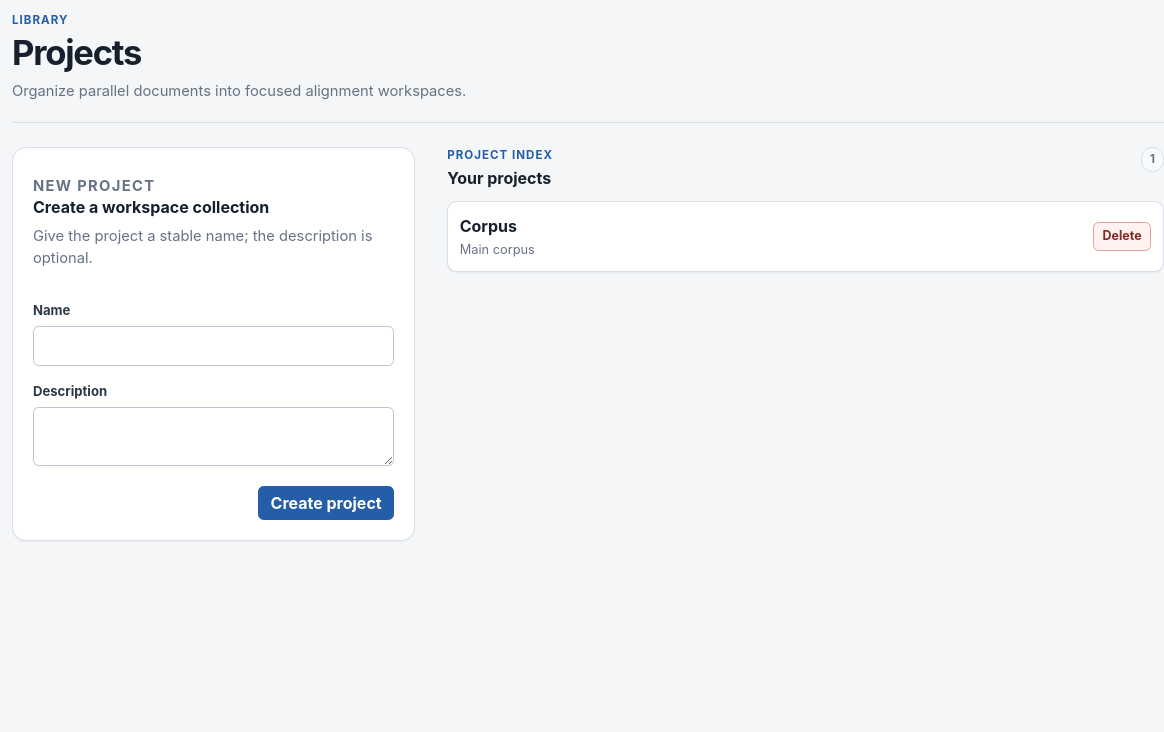
Test: ProjectsPage › surfaces a failed project delete as a visible API error (M0.7 W3)
Expected: the text "Corpus" is shown, x1=460 y1=216 x2=517 y2=236
Step 1. Click the button with aria-label "Delete project Corpus" → [1122, 237], box x1=1093 y1=222 x2=1152 y2=251
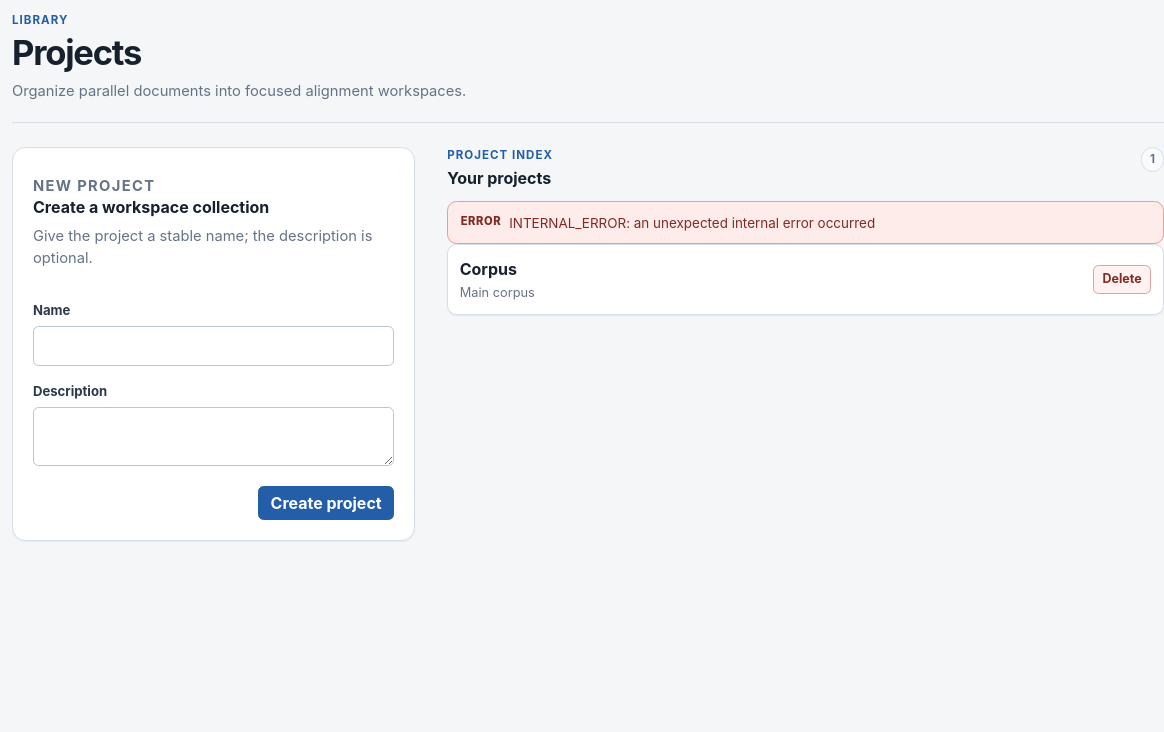
Expected: the text "Corpus" is shown, x1=460 y1=259 x2=517 y2=279
Expected: the text "INTERNAL_ERROR: an unexpected internal error occurred" is shown, x1=509 y1=213 x2=875 y2=233
